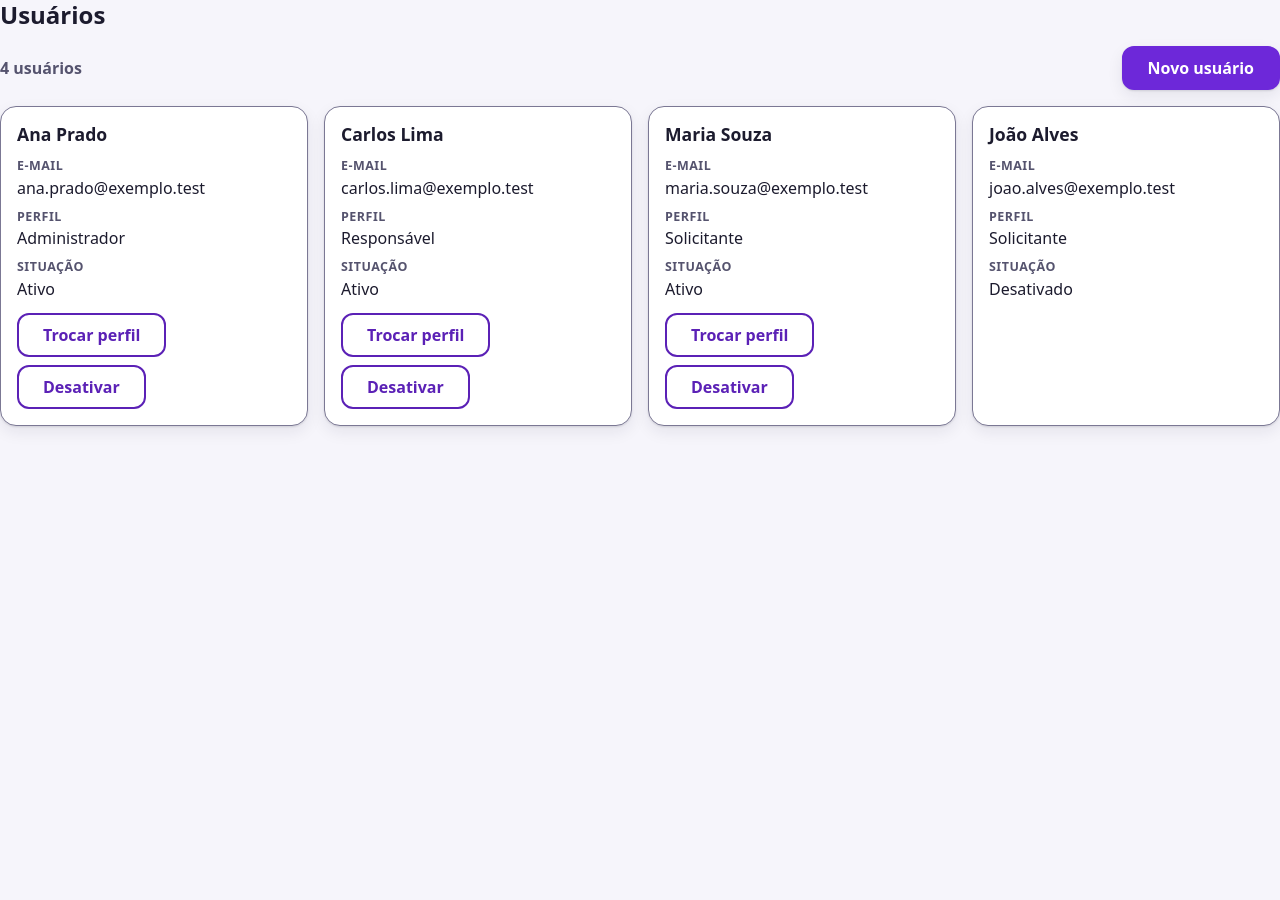
Test case: PaginaDeUsuarios: trocar perfil (RF-15) › envia o perfil escolhido, anuncia com o foco e a lista mostra o perfil novo
The width and height of the screenshot is (1280, 900).
Click the button "Trocar perfil" below "maria.souza@exemplo.test" at [740, 335], box left=665, top=313, right=814, bottom=357
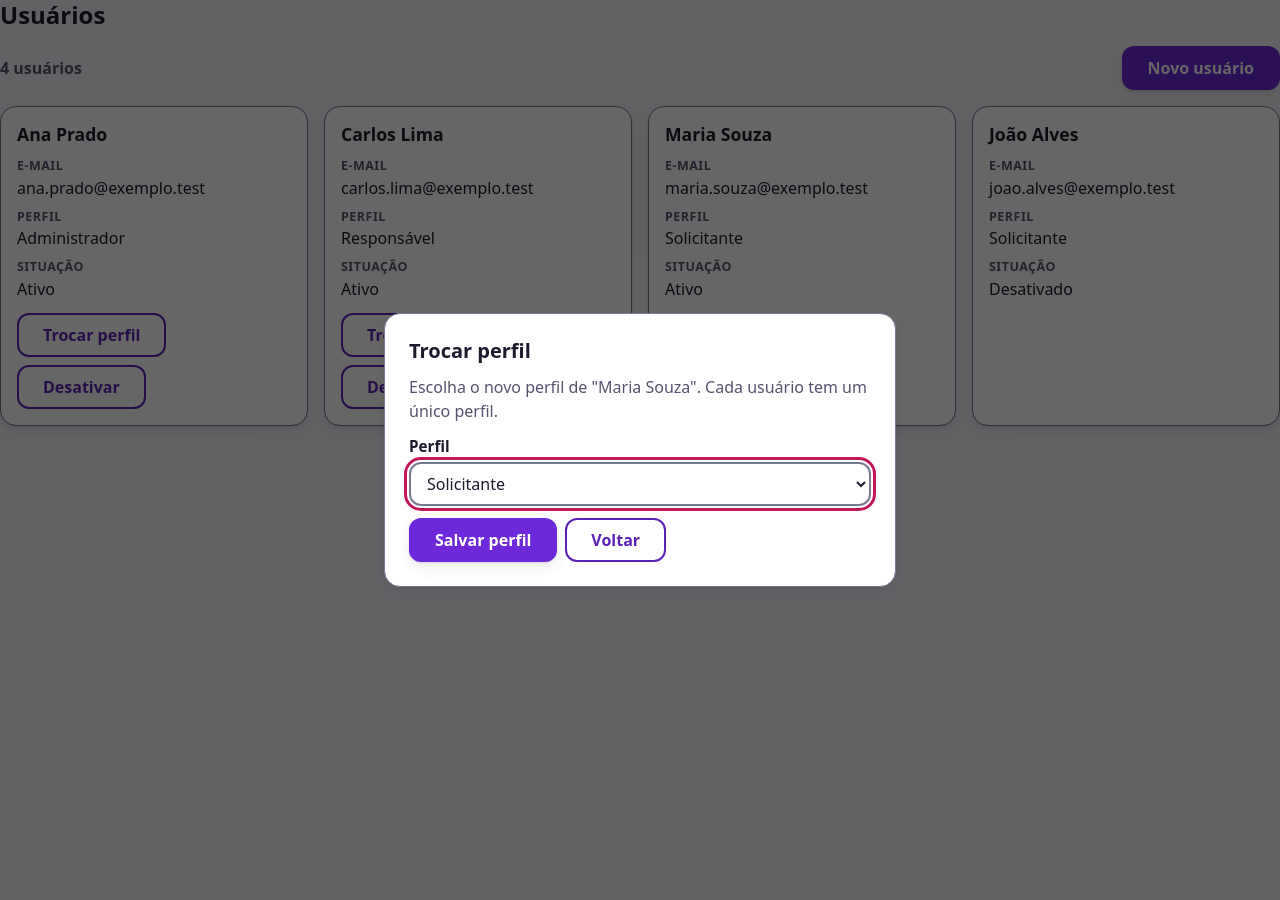
Select "Responsável" in the dropdown labelled "Perfil" at [640, 484], box left=409, top=462, right=871, bottom=506
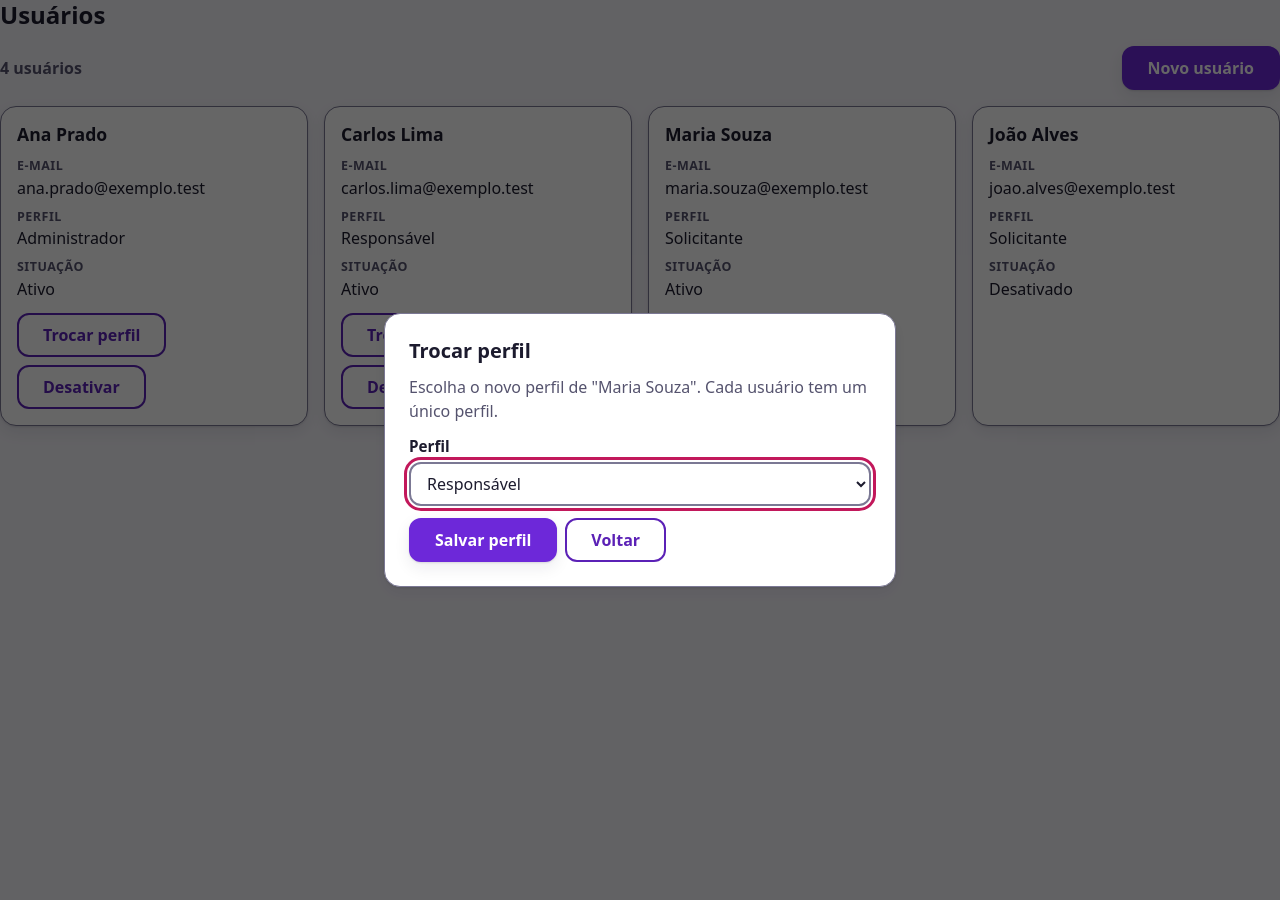
Click the button "Salvar perfil" at [483, 540], box left=409, top=518, right=557, bottom=562
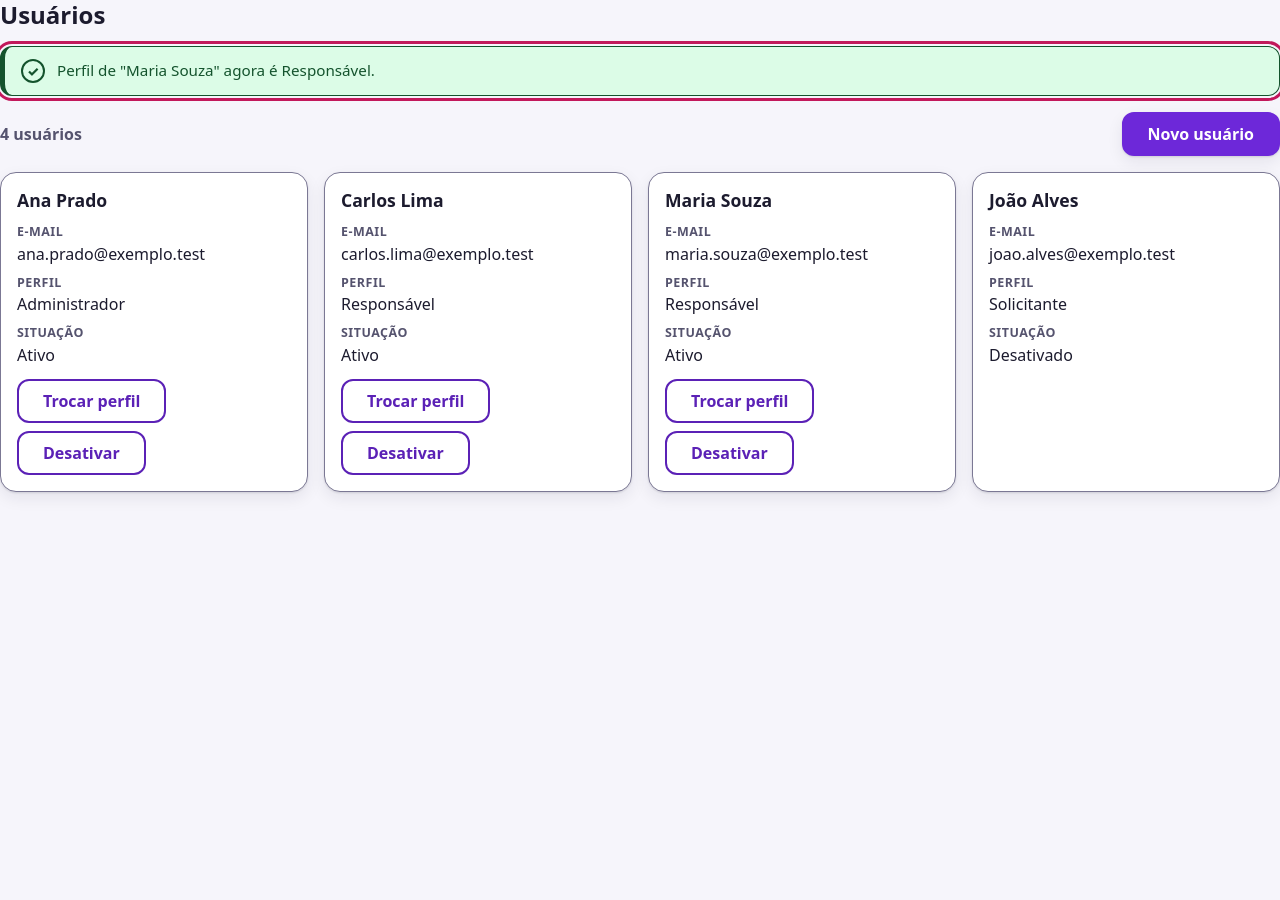
expect the text "Responsável" below "maria.souza@exemplo.test" is shown: met, box left=665, top=293, right=759, bottom=315
expect the dialog is gone: met
